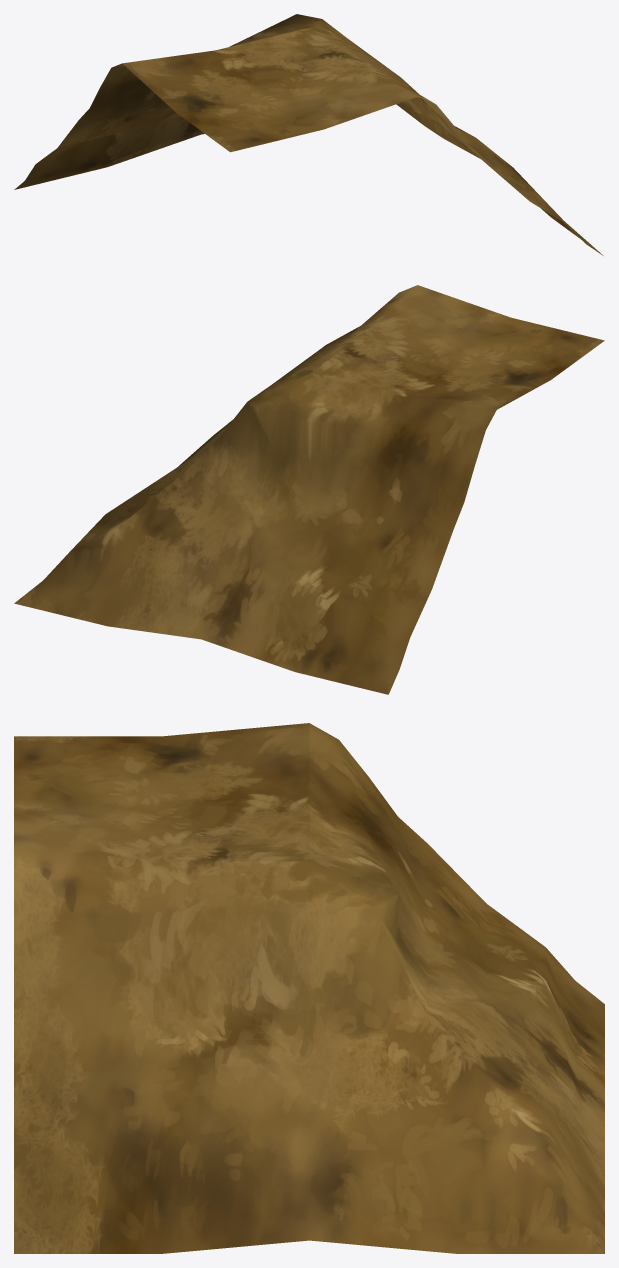
File: Levelled_Slope_Corner_003.fbx
3 views of the same model, one above another, from view 1: azimuth 30°, elevation 25°; view 2: azimuth 150°, elevation 25°; view 3: azimuth 270°, elevation 25° (orthographic). The views are drawn at different scales.
Parts seen in each view (by area): view 1: Levelled_Slope_Corner_003; view 2: Levelled_Slope_Corner_003; view 3: Levelled_Slope_Corner_003.
Part boxes in pixels (x1,y1,x2,y2): Levelled_Slope_Corner_003: (14, 14, 603, 255); Levelled_Slope_Corner_003: (14, 285, 604, 694); Levelled_Slope_Corner_003: (14, 723, 604, 1253).
Bounding box in the file's own units: 10 × 5.25 × 10.
1 material, 1 textured.
